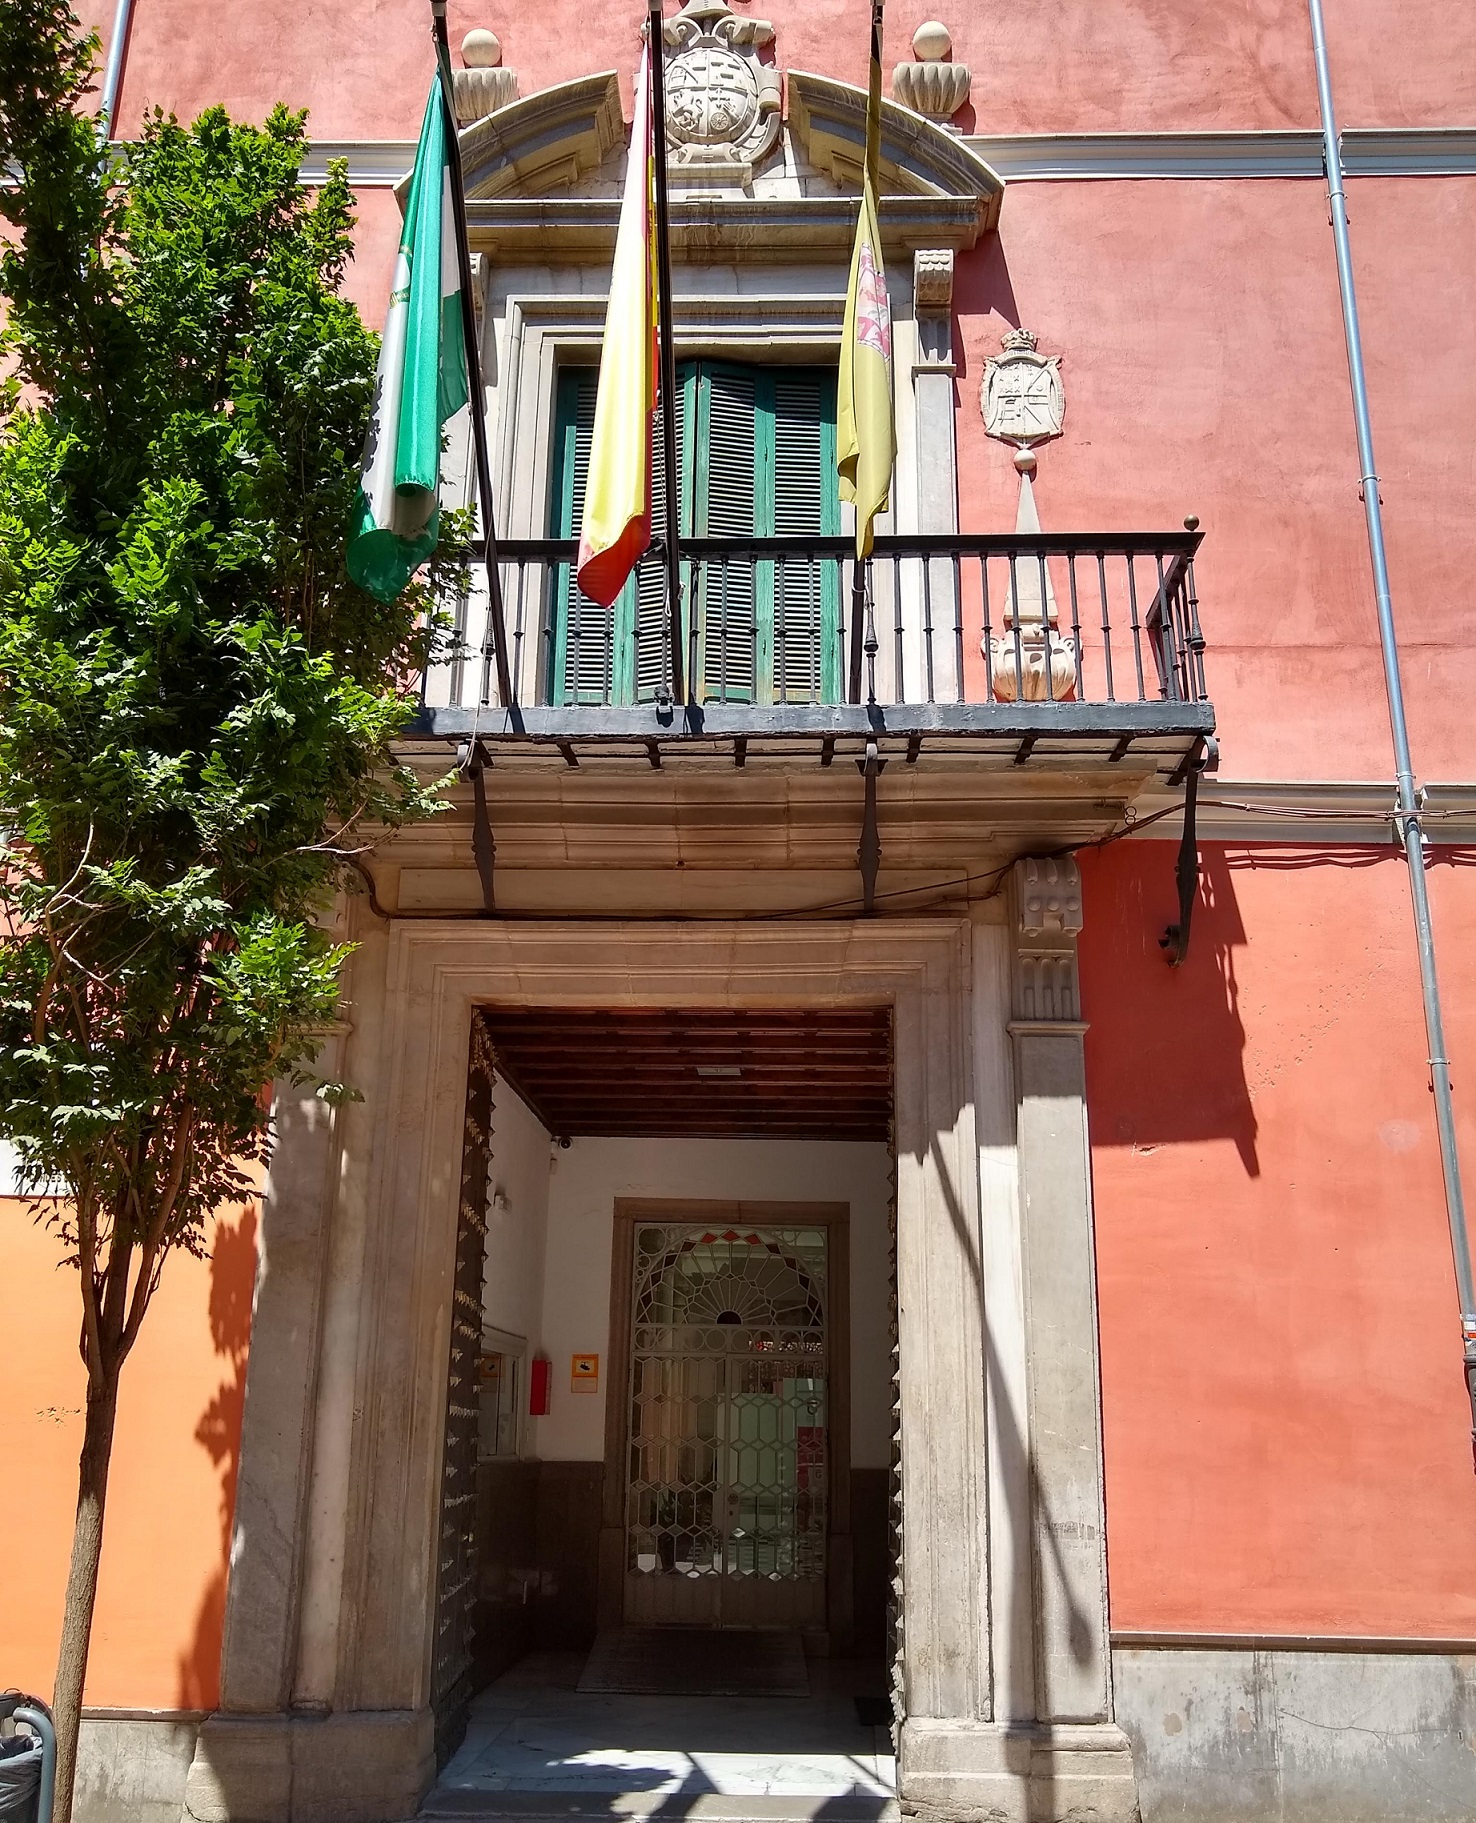fronton-partido: (389, 50, 1020, 229)
vano-adintelado: (395, 912, 976, 1811), (506, 292, 874, 717)
